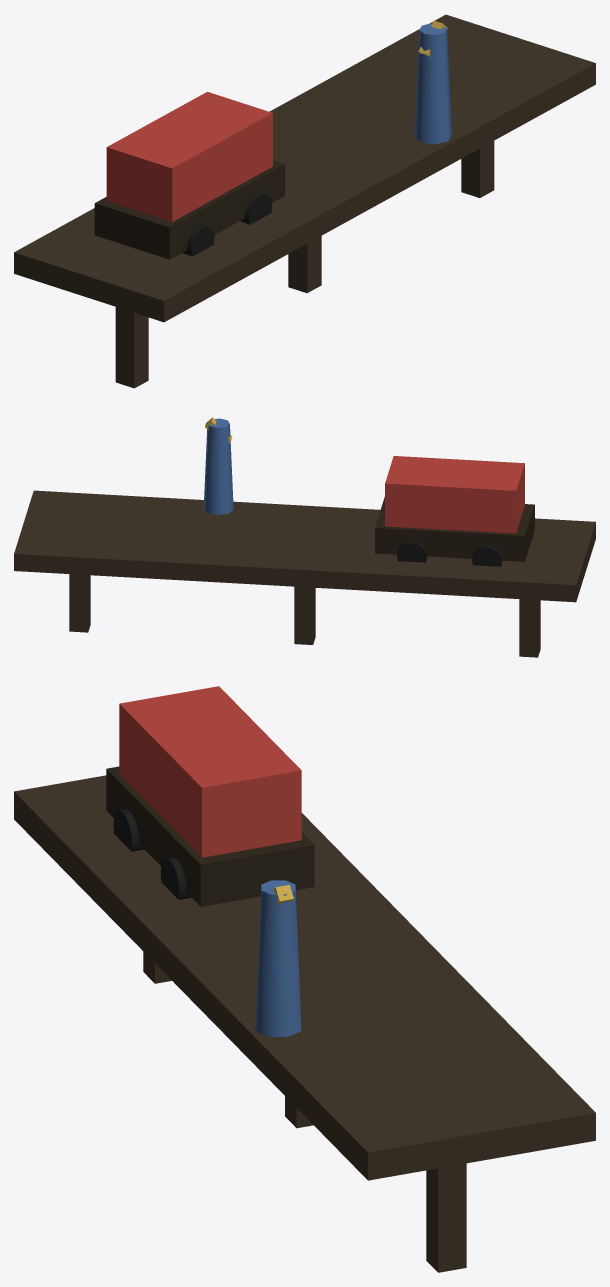
Rendered from assembly_line.glb.
3 views of the same model, one above another, from view 1: azimuth 30°, elevation 25°; view 2: azimuth 150°, elevation 25°; view 3: azimuth 270°, elevation 25° (orthographic). The views are drawn at different scales.
Size of the model in its own units: 3.08 by 1.12 by 1.89.
